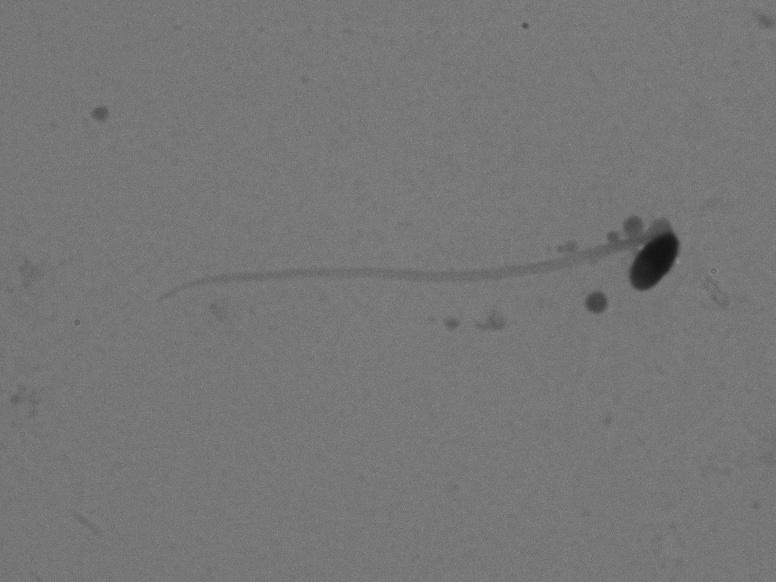Abnormal: (131, 195, 701, 350)
